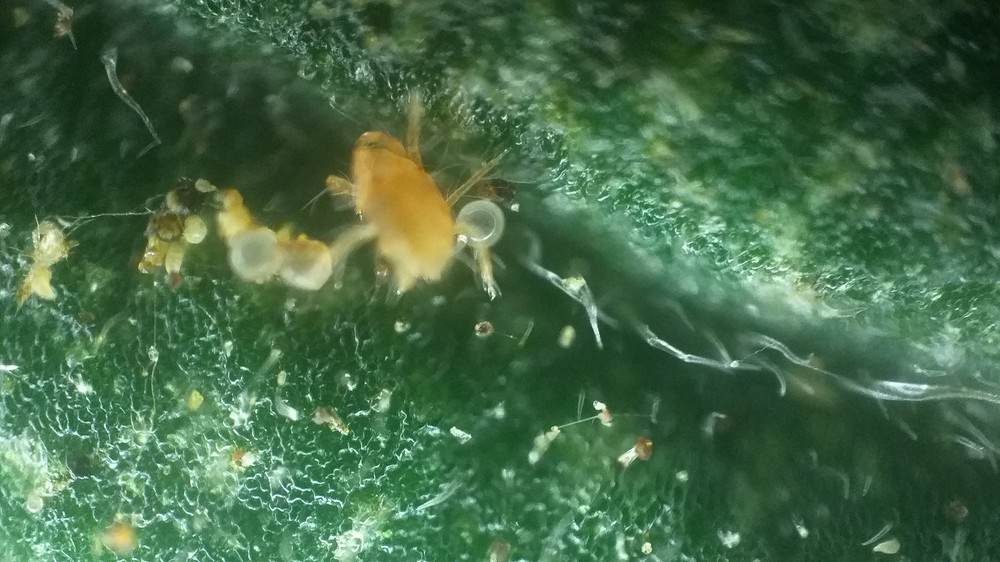Aracnido Rojo: (295, 103, 525, 306)
